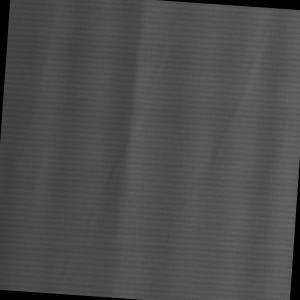Wrinkle: (1, 1, 168, 300), (193, 5, 300, 300)
